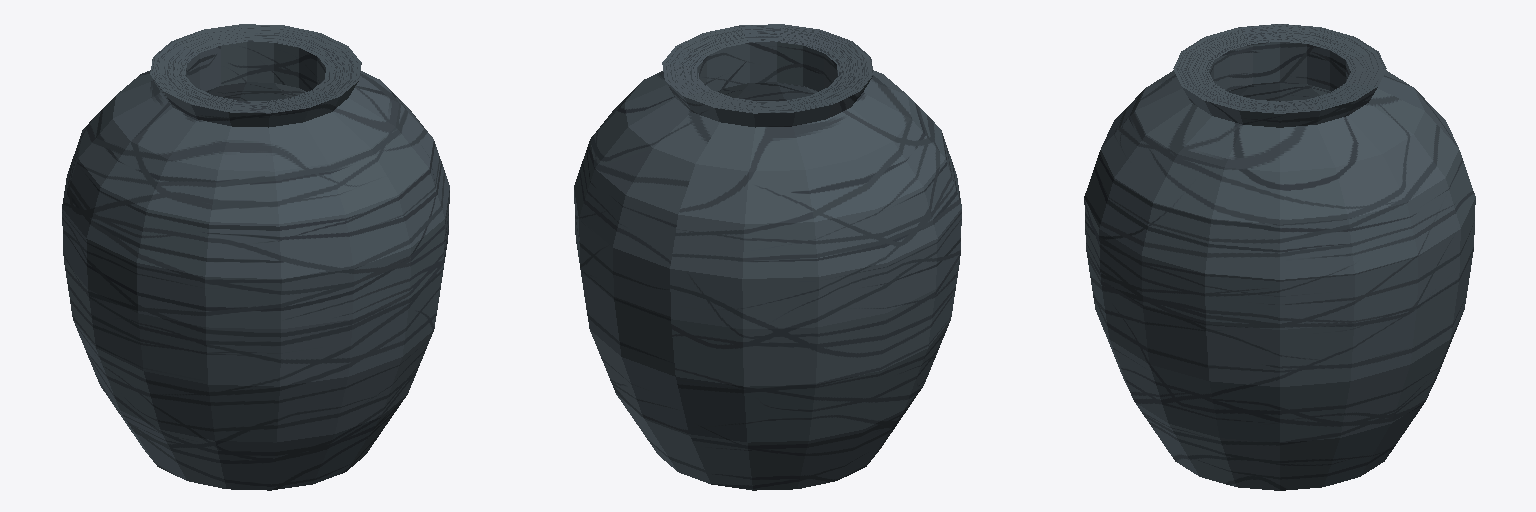
3 views of the same model, side by side, from view 1: azimuth 30°, elevation 25°; view 2: azimuth 150°, elevation 25°; view 3: azimuth 270°, elevation 25° (orthographic).
Parts seen in each view (by area): view 1: Cylinder; view 2: Cylinder; view 3: Cylinder.
Part boxes in pixels (x1,y1,x2,y2): Cylinder: (62, 24, 449, 490); Cylinder: (574, 24, 961, 490); Cylinder: (1084, 24, 1475, 490).
Size of the model in its own units: 0.1895 by 0.1999 by 0.1895.
1 materials, 1 textured.